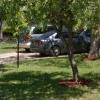Car: (29, 25, 88, 61)
